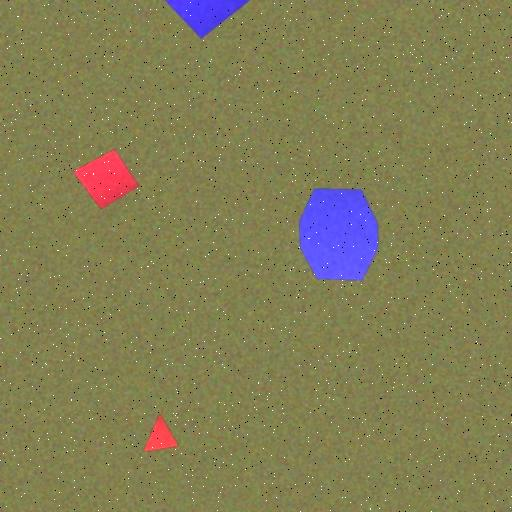BLUE_SQUARE: (134, 0, 284, 39)
RED_SQUARE: (72, 149, 140, 210)
